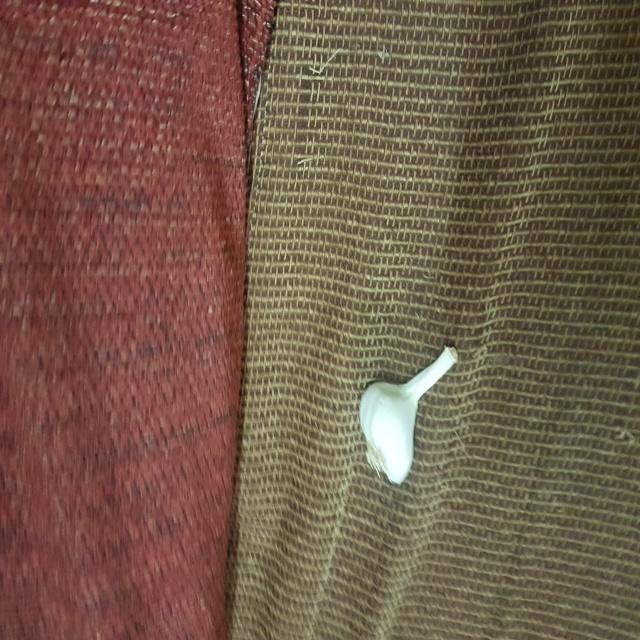garlic: (349, 332, 476, 493)
